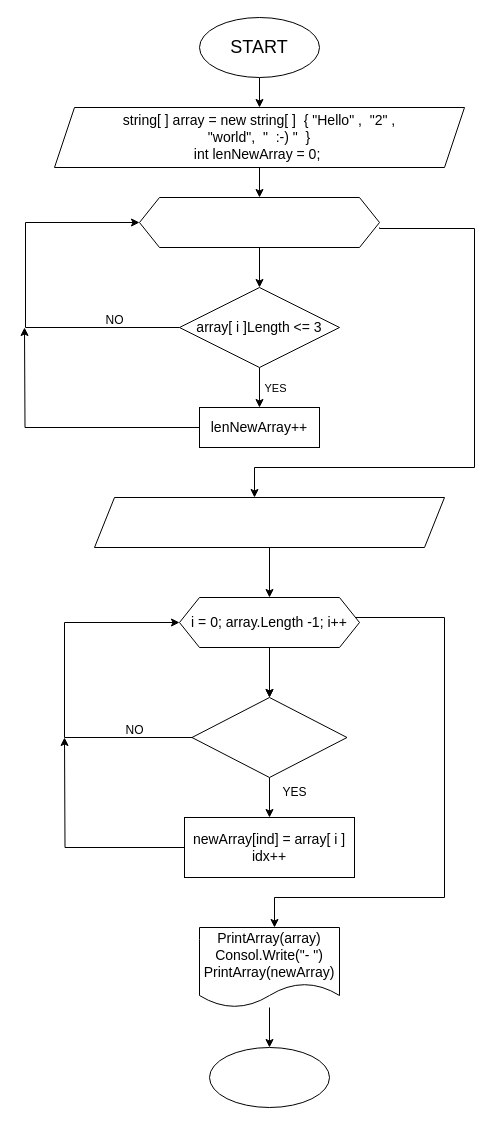
This 500x1125 diagram has some shape labels left out. The shapes that lost their labels are listed below. From the top down, each one's centre as x and y in pixels, then its label:
At point (259, 222): "i = 0; array.Lenght -1; i++".
At point (269, 522): "string[ ] newArray = new string [ lenNewArray] int idx = 0;".
At point (269, 737): "array[ i ].Length <= 3".
At point (269, 1077): "END".
